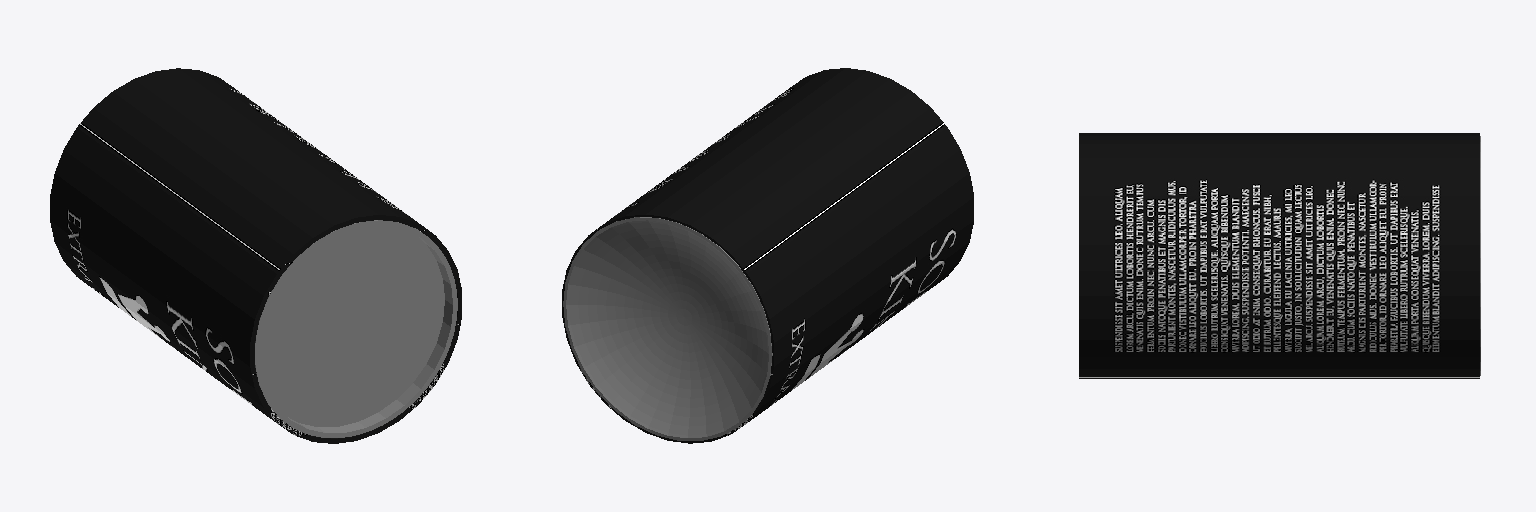
3 renders of one model, left to right at view 1: azimuth 30°, elevation 25°; view 2: azimuth 150°, elevation 25°; view 3: azimuth 270°, elevation 25°, orthographic.
Visible parts, largest first — view 1: Tube001; view 2: Tube001; view 3: Tube001.
Boxes of the visible parts, box(x1,y1,x2,y2) form: Tube001: box(50, 68, 461, 443); Tube001: box(562, 68, 973, 443); Tube001: box(1079, 133, 1480, 378).
Bounding box in the file's own units: 4.38 × 4.4 × 7.17.
2 materials, 2 textured.